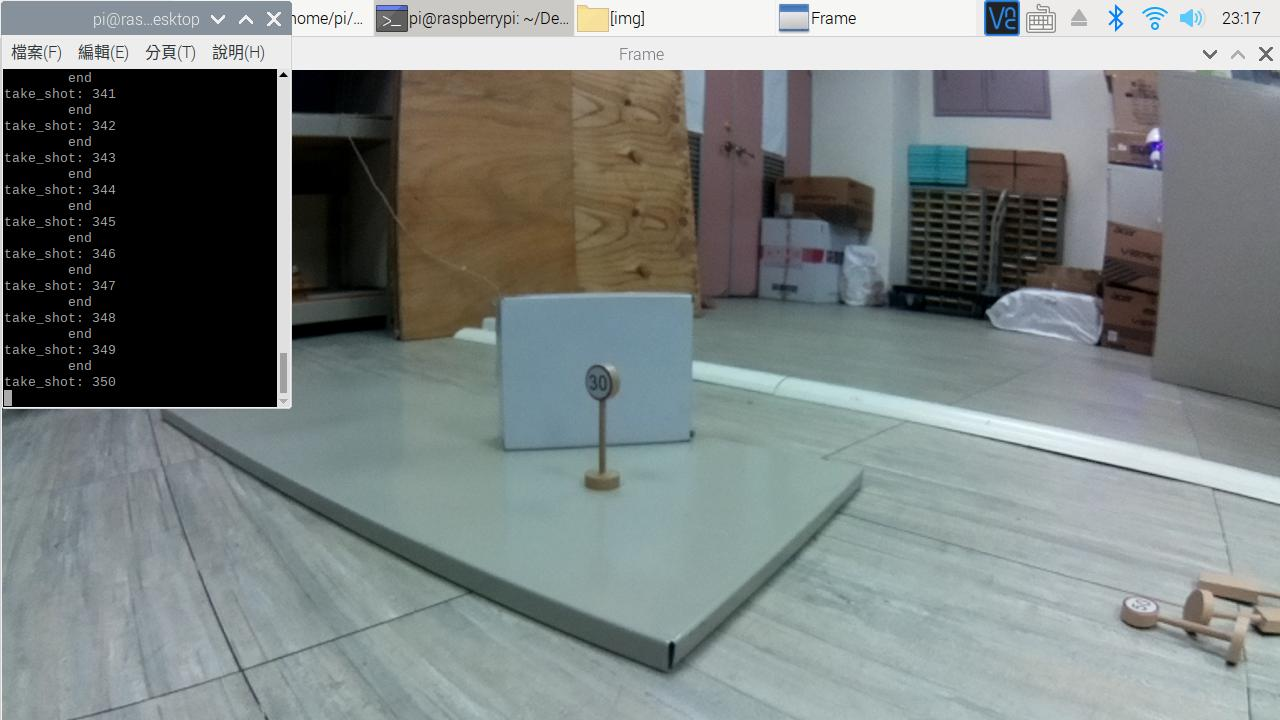Speed30: (576, 360, 635, 417)
